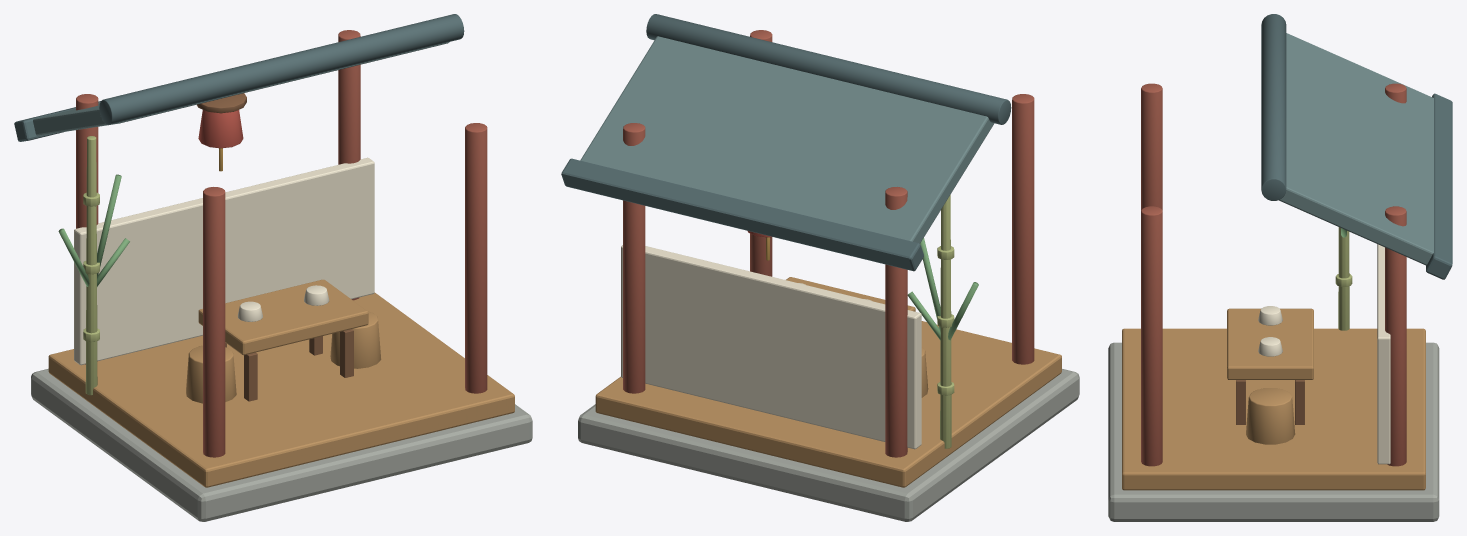
The model's file is building_tea_pavilion_open.glb.
The picture shows the model from 3 angles, left to right: view 1: azimuth 30°, elevation 25°; view 2: azimuth 150°, elevation 25°; view 3: azimuth 270°, elevation 25°; orthographic projection. The views are drawn at different scales.
Parts seen in each view (by area): view 1: RaisedFloor.006, PavilionBackScreen, Foundation.006, RoofRidge.005, WorkTableTop.005, PavilionPost.002, PavilionPost, BambooStem.002, PavilionPost.003, PavilionPost.001, TeaStool.001, LanternFrame.004 (+6 smaller); view 2: PavilionBackScreen, RaisedFloor.006, Foundation.006, RearEave.005, RoofRidge.005, PavilionPost, PavilionPost.003, PavilionPost.001, BambooStem.002, RoofTile_01_00.005, RoofTile_02_00.005, RoofTile_03_00.004 (+50 smaller); view 3: RaisedFloor.006, Foundation.006, PavilionPost.002, WorkTableTop.005, RoofRidge.005, PavilionPost.003, RearEave.005, PavilionPost, PavilionBackScreen, TeaStool.001, RoofTile_01_12.004, RoofTile_02_12.004 (+46 smaller).
Boxes of the visible parts, x1,y1,x2,y2 form: RaisedFloor.006: [48, 292, 514, 487]; PavilionBackScreen: [74, 157, 374, 365]; Foundation.006: [31, 368, 532, 521]; RoofRidge.005: [99, 14, 464, 124]; WorkTableTop.005: [198, 279, 368, 355]; PavilionPost.002: [465, 123, 487, 393]; PavilionPost: [203, 187, 225, 457]; BambooStem.002: [85, 136, 97, 395]; PavilionPost.003: [338, 30, 360, 300]; PavilionPost.001: [76, 94, 98, 364]; TeaStool.001: [330, 311, 381, 368]; LanternFrame.004: [198, 110, 243, 148]; PavilionBackScreen: [621, 245, 921, 449]; RaisedFloor.006: [595, 321, 1061, 487]; Foundation.006: [578, 369, 1079, 521]; RearEave.005: [561, 158, 923, 271]; RoofRidge.005: [646, 14, 1011, 124]; PavilionPost: [1012, 94, 1034, 364]; PavilionPost.003: [623, 123, 645, 393]; PavilionPost.001: [885, 187, 907, 457]; BambooStem.002: [940, 195, 951, 448]; RoofTile_01_00.005: [924, 137, 975, 187]; RoofTile_02_00.005: [905, 171, 954, 221]; RoofTile_03_00.004: [884, 205, 933, 243]; RaisedFloor.006: [1122, 328, 1425, 490]; Foundation.006: [1108, 342, 1439, 521]; PavilionPost.002: [1141, 206, 1162, 466]; WorkTableTop.005: [1227, 308, 1313, 379]; RoofRidge.005: [1261, 14, 1286, 200]; PavilionPost.003: [1385, 206, 1406, 466]; RearEave.005: [1426, 93, 1452, 279]; PavilionPost: [1141, 83, 1162, 210]; PavilionBackScreen: [1377, 244, 1390, 464]; TeaStool.001: [1246, 388, 1295, 444]; RoofTile_01_12.004: [1310, 189, 1357, 232]; RoofTile_02_12.004: [1351, 207, 1397, 249].
Bounding box in the file's own units: 2.41 × 2.31 × 2.06.
